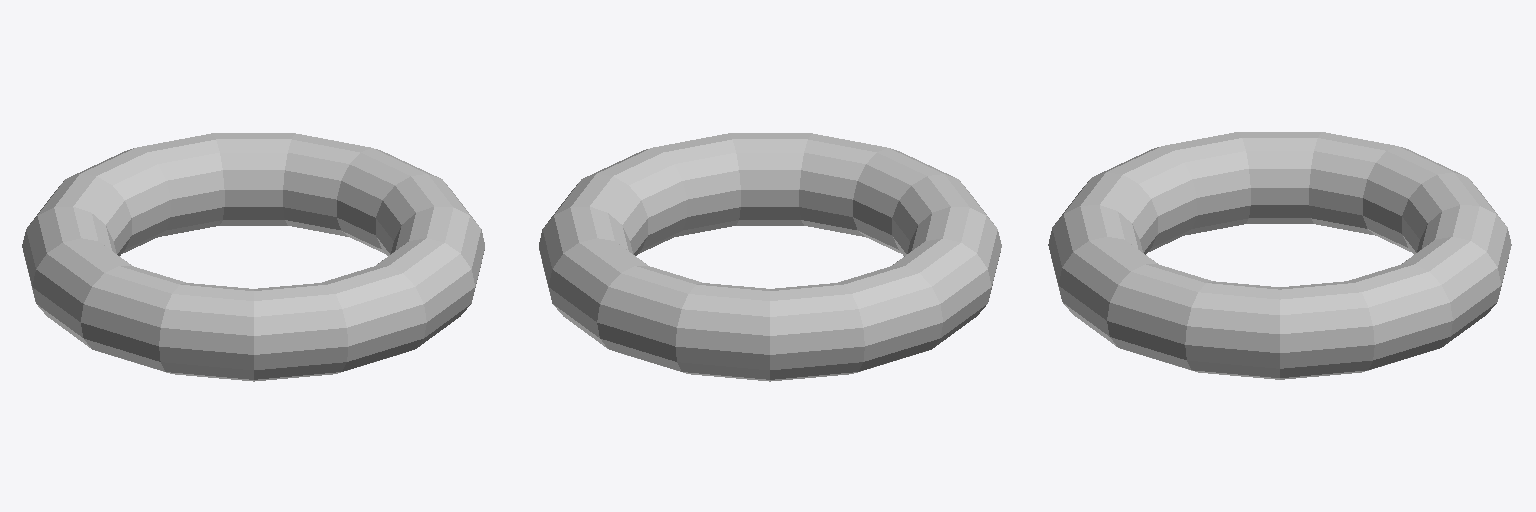
File: blah.obj
3 renders of one model, left to right at view 1: azimuth 30°, elevation 25°; view 2: azimuth 150°, elevation 25°; view 3: azimuth 270°, elevation 25°, orthographic.
Parts seen in each view (by area): view 1: Torus; view 2: Torus; view 3: Torus.
Part boxes in pixels (x1,y1,x2,y2): Torus: (22, 133, 484, 381); Torus: (539, 133, 1001, 381); Torus: (1048, 132, 1511, 379).
Bounding box in the file's own units: 2.47 × 0.4973 × 2.49.